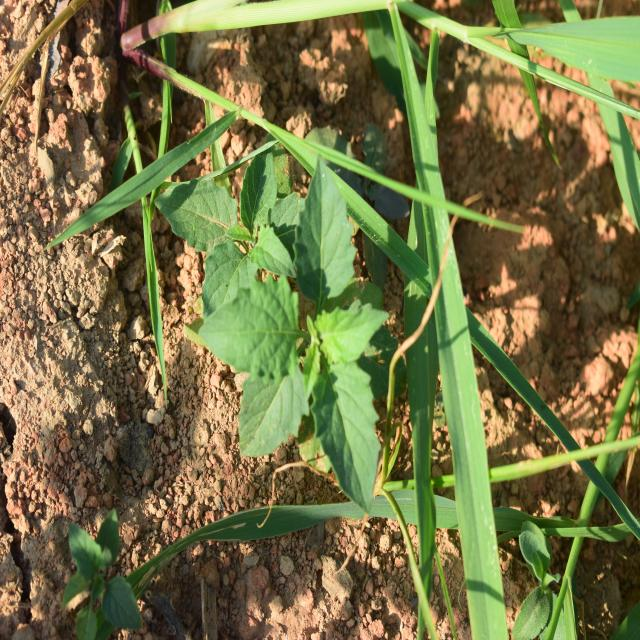Black_nightshade: (203, 180, 394, 480), (193, 154, 294, 326)
